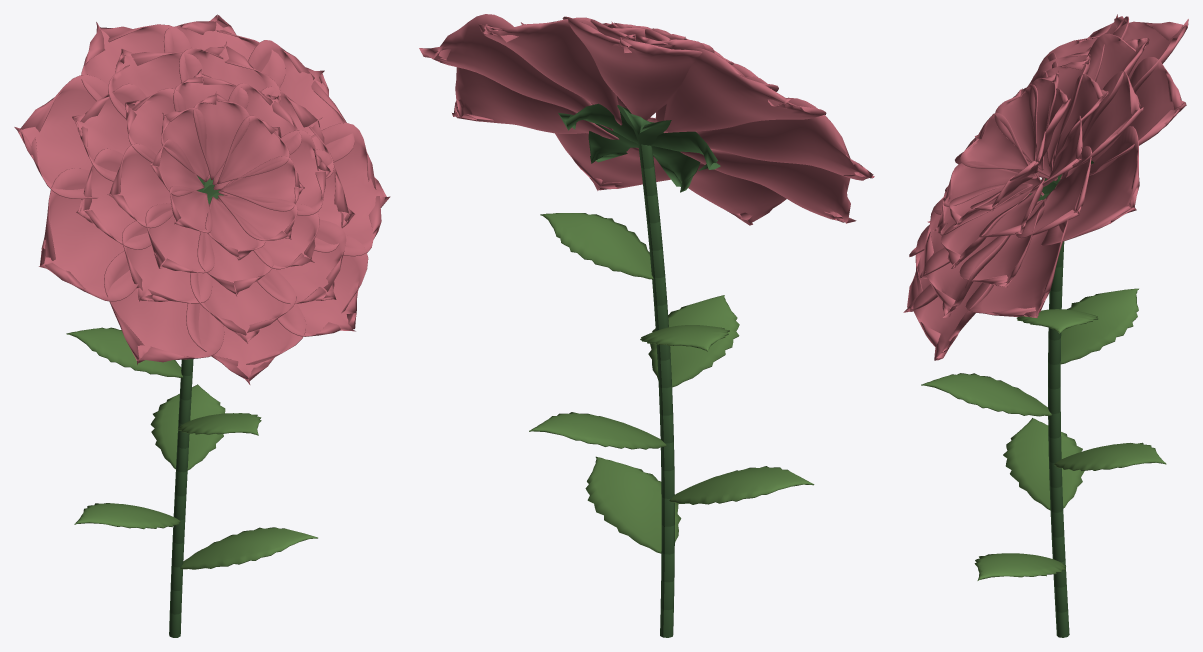
Rendered from camellia-rare-v2.glb.
3 views of the same model, side by side, from view 1: azimuth 30°, elevation 25°; view 2: azimuth 150°, elevation 25°; view 3: azimuth 270°, elevation 25° (orthographic). The views are drawn at different scales.
Visible parts, largest first — view 1: camellia-rare-v2-petal, camellia-rare-v2-leaf, camellia-rare-v2-stem; view 2: camellia-rare-v2-petal, camellia-rare-v2-leaf, camellia-rare-v2-stem; view 3: camellia-rare-v2-petal, camellia-rare-v2-leaf, camellia-rare-v2-stem.
Part boxes in pixels (x1=…): camellia-rare-v2-petal: x1=14, y1=14, x2=390, y2=384; camellia-rare-v2-leaf: x1=66, y1=327, x2=317, y2=569; camellia-rare-v2-stem: x1=169, y1=176, x2=223, y2=637; camellia-rare-v2-petal: x1=419, y1=14, x2=874, y2=225; camellia-rare-v2-leaf: x1=529, y1=213, x2=814, y2=553; camellia-rare-v2-stem: x1=558, y1=103, x2=720, y2=637; camellia-rare-v2-petal: x1=903, y1=14, x2=1188, y2=360; camellia-rare-v2-leaf: x1=921, y1=288, x2=1166, y2=580; camellia-rare-v2-stem: x1=1029, y1=160, x2=1093, y2=637.
Bounding box in the file's own units: 1.24 × 1.89 × 0.8044.
